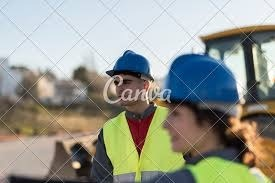helmet: (153, 52, 245, 111), (103, 48, 156, 84)
person with full safety: (152, 51, 272, 182), (87, 48, 168, 182)
safety vest: (99, 107, 169, 183), (185, 156, 251, 183)
